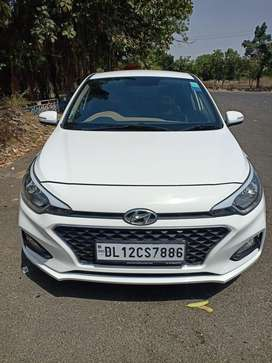DL12CS7886: (95, 242, 185, 260)
